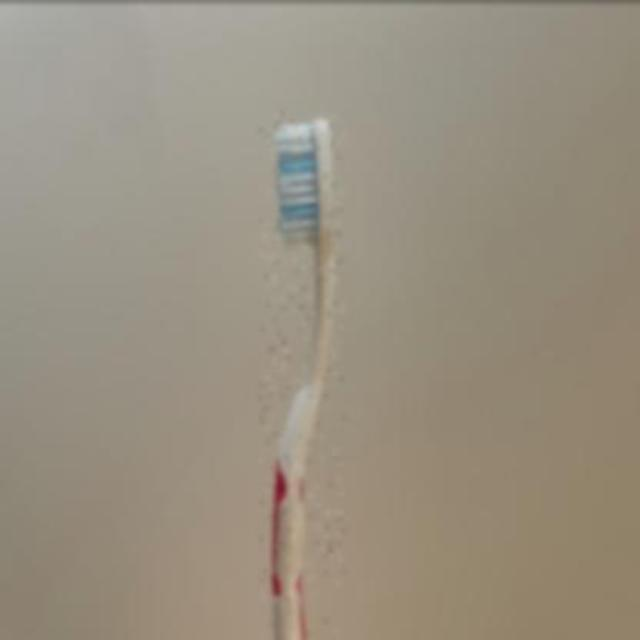toothbrush: (260, 106, 344, 640)
